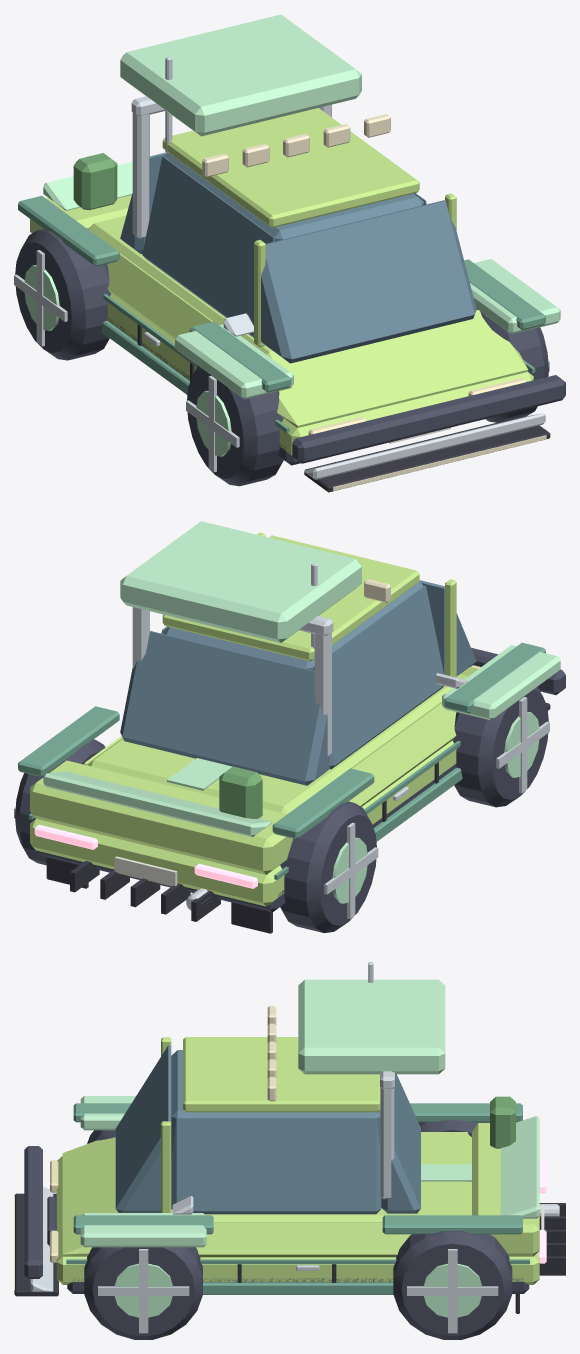
File: pine_rally.fbx
The picture shows the model from 3 angles, top to bottom: view 1: azimuth 30°, elevation 25°; view 2: azimuth 150°, elevation 25°; view 3: azimuth 270°, elevation 25°; orthographic projection. The views are drawn at different scales.
Parts seen in each view (by area): view 1: Body, Glass, Accent3, Accent, Trim2, Wheel_RR, Accent2, Wheel_FR, Light, Trim, Metal, Accent5 (+3 smaller); view 2: Glass, Body, Accent3, Accent, Wheel_RR, Wheel_FR, Trim, Accent2, Metal, Metal2, Accent5, Trim2 (+5 smaller); view 3: Body, Glass, Accent3, Accent, Wheel_RL, Wheel_FL, Trim2, Metal, Metal2, Trim, Accent2, Accent5 (+5 smaller).
Part boxes in pixels (x1,y1,x2,y2): Body: [30, 108, 533, 455]; Glass: [120, 152, 476, 363]; Accent3: [43, 14, 560, 399]; Accent: [18, 195, 545, 432]; Trim2: [108, 317, 565, 465]; Wheel_RR: [15, 229, 111, 360]; Accent2: [131, 56, 545, 479]; Wheel_FR: [187, 365, 283, 486]; Light: [202, 114, 546, 490]; Trim: [137, 324, 550, 492]; Metal: [14, 250, 549, 472]; Accent5: [73, 153, 117, 210]; Glass: [120, 580, 476, 785]; Body: [30, 532, 478, 906]; Accent3: [43, 521, 560, 837]; Accent: [18, 642, 545, 879]; Wheel_RR: [280, 801, 376, 933]; Wheel_FR: [452, 687, 548, 807]; Trim: [46, 703, 550, 933]; Accent2: [132, 563, 467, 755]; Metal: [14, 697, 549, 918]; Metal2: [332, 712, 539, 903]; Accent5: [219, 766, 262, 818]; Trim2: [37, 647, 565, 912]; Body: [56, 1037, 539, 1284]; Glass: [115, 1045, 420, 1214]; Accent3: [80, 979, 539, 1247]; Accent: [66, 1103, 529, 1294]; Wheel_RL: [393, 1231, 512, 1339]; Wheel_FL: [84, 1247, 202, 1339]; Trim2: [24, 1146, 529, 1293]; Metal: [98, 1204, 559, 1333]; Metal2: [114, 1263, 481, 1317]; Trim: [14, 1193, 565, 1313]; Accent2: [30, 962, 394, 1291]; Accent5: [490, 1096, 515, 1148].
Bounding box in the file's own units: 3.16 × 2.97 × 5.26.
